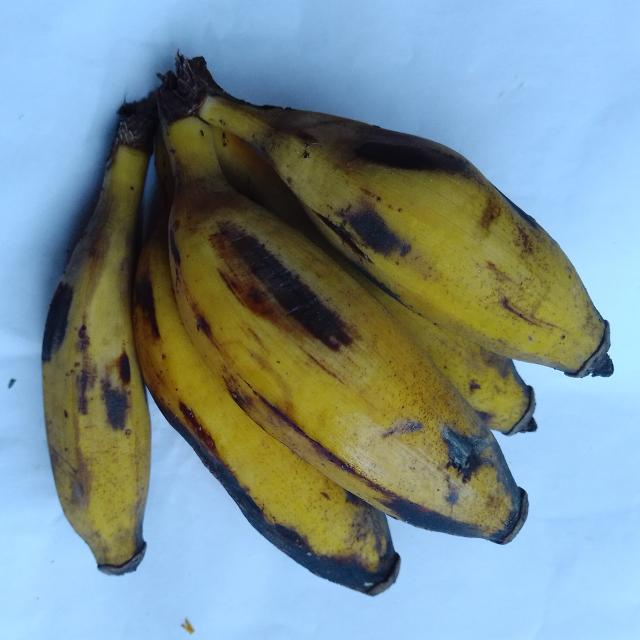banana: (159, 73, 526, 543), (177, 56, 612, 377), (134, 212, 399, 595), (214, 127, 536, 434), (42, 97, 156, 574)
